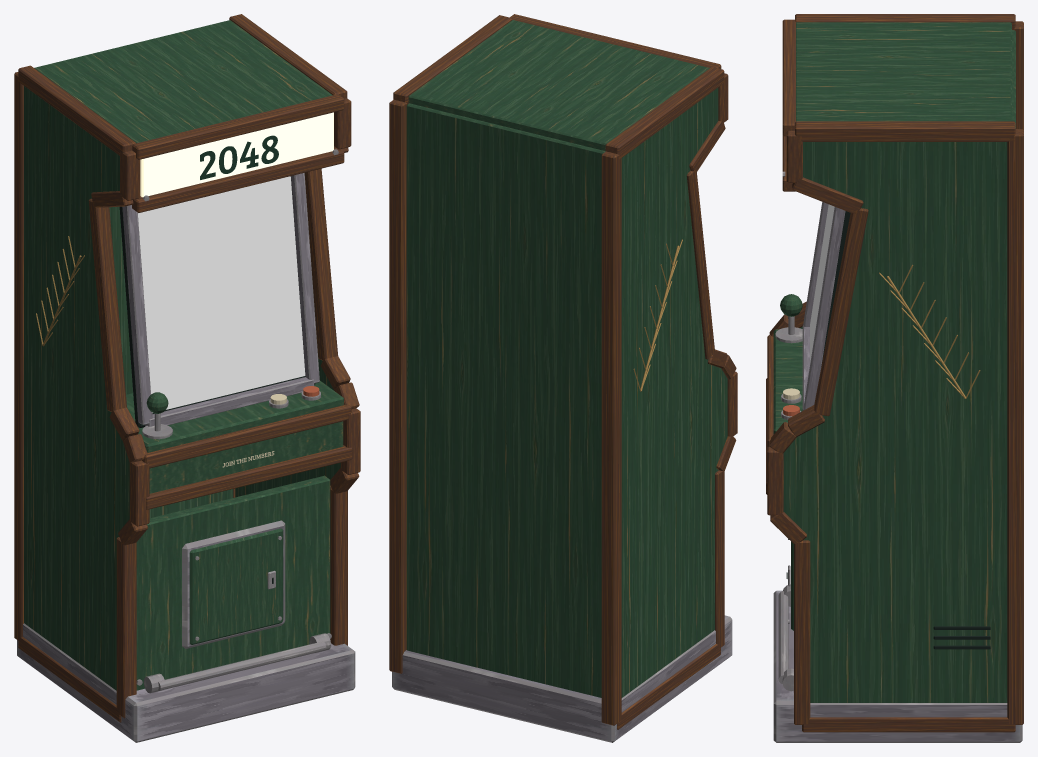
The model's file is cabinet.glb.
3 renders of one model, left to right at view 1: azimuth 30°, elevation 25°; view 2: azimuth 150°, elevation 25°; view 3: azimuth 270°, elevation 25°, orthographic. The views are drawn at different scales.
Visible parts, largest first — view 1: Cabinet, Screen; view 2: Cabinet; view 3: Cabinet, Screen, JoystickHandle.
Part boxes in pixels (x1,y1,x2,y2): Cabinet: (14,14,360,742); Screen: (138,176,305,412); Cabinet: (389,14,737,742); Cabinet: (766,14,1023,742); Screen: (810,204,834,364); JoystickHandle: (780,294,802,334).
Size of the model in its own units: 0.76 by 1.91 by 0.724.
9 materials, 2 textured.
